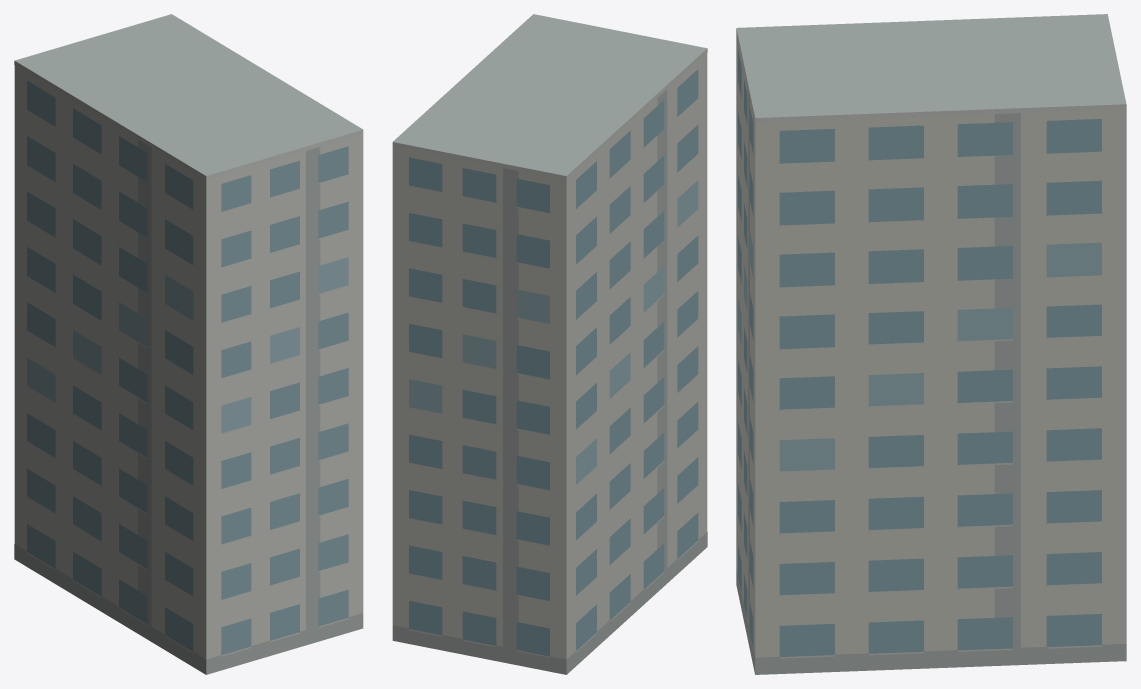
The model's file is residential-02513a9f-b63d-44c6-bd65-1d9d0ad644b7.glb.
3 views of the same model, side by side, from view 1: azimuth 30°, elevation 25°; view 2: azimuth 150°, elevation 25°; view 3: azimuth 270°, elevation 25° (orthographic). The views are drawn at different scales.
Parts seen in each view (by area): view 1: residential-02513a9f-b63d-44c6-bd65-1d9d0ad644b7.tmp; view 2: residential-02513a9f-b63d-44c6-bd65-1d9d0ad644b7.tmp; view 3: residential-02513a9f-b63d-44c6-bd65-1d9d0ad644b7.tmp.
Part boxes in pixels (x1,y1,x2,y2): residential-02513a9f-b63d-44c6-bd65-1d9d0ad644b7.tmp: (14,14,363,674); residential-02513a9f-b63d-44c6-bd65-1d9d0ad644b7.tmp: (392,14,707,674); residential-02513a9f-b63d-44c6-bd65-1d9d0ad644b7.tmp: (736,14,1126,674).
Size of the model in its own units: 11.23 by 28 by 17.79.
